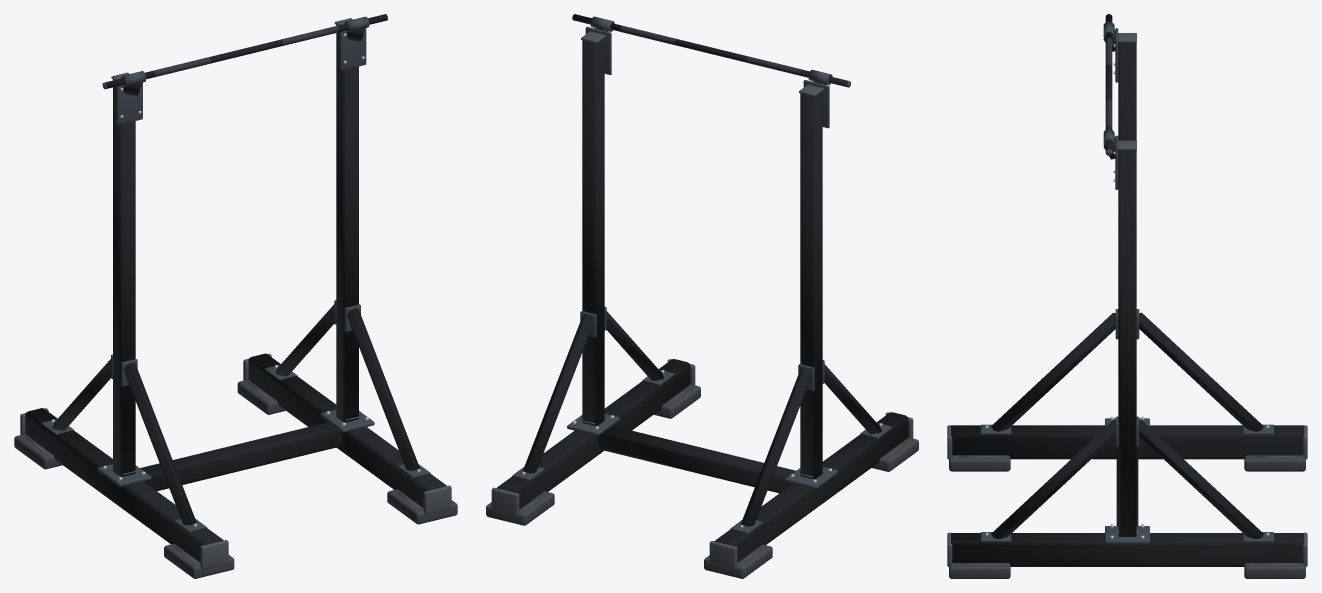
File: straight_pull_up_station.glb
The picture shows the model from 3 angles, left to right: view 1: azimuth 30°, elevation 25°; view 2: azimuth 150°, elevation 25°; view 3: azimuth 270°, elevation 25°; orthographic projection. The views are drawn at different scales.
Visible parts, largest first — view 1: RightUpright_Frame, LeftUpright_Frame, LeftBaseFoot_Frame, RightBaseFoot_Frame, MainFrame_Frame, RightReinforcement_Frame, LeftReinforcement_Frame, RightRubberFoot_Rubber, LeftRubberFoot_Rubber, MainFrame_Trim, RightUpright_Trim, LeftUpright_Trim (+6 smaller); view 2: RightUpright_Frame, LeftUpright_Frame, LeftBaseFoot_Frame, RightBaseFoot_Frame, MainFrame_Frame, LeftReinforcement_Frame, RightReinforcement_Frame, RightRubberFoot_Rubber, LeftRubberFoot_Rubber, MainFrame_Trim, PullUpBar_Frame, PullUpBar_Grip (+6 smaller); view 3: RightBaseFoot_Frame, LeftBaseFoot_Frame, RightUpright_Frame, RightReinforcement_Frame, LeftReinforcement_Frame, LeftRubberFoot_Rubber, RightRubberFoot_Rubber, LeftUpright_Frame, MainFrame_Trim, LeftReinforcement_Trim, RightReinforcement_Trim, PullUpBar_Frame (+1 smaller).
Boxes of the visible parts, left/top/right/bottom form: RightUpright_Frame: left=336, top=25, right=364, bottom=422; LeftUpright_Frame: left=113, top=79, right=141, bottom=476; LeftBaseFoot_Frame: left=25, top=408, right=223, bottom=562; RightBaseFoot_Frame: left=248, top=353, right=446, bottom=507; MainFrame_Frame: left=140, top=422, right=342, bottom=491; RightReinforcement_Frame: left=275, top=304, right=419, bottom=470; LeftReinforcement_Frame: left=52, top=359, right=196, bottom=525; RightRubberFoot_Rubber: left=237, top=380, right=457, bottom=524; LeftRubberFoot_Rubber: left=14, top=434, right=234, bottom=578; MainFrame_Trim: left=97, top=409, right=374, bottom=487; RightUpright_Trim: left=339, top=16, right=369, bottom=70; LeftUpright_Trim: left=116, top=71, right=146, bottom=125; RightUpright_Frame: left=582, top=27, right=608, bottom=425; LeftUpright_Frame: left=800, top=81, right=826, bottom=478; LeftBaseFoot_Frame: left=714, top=412, right=908, bottom=562; RightBaseFoot_Frame: left=497, top=359, right=690, bottom=509; MainFrame_Frame: left=598, top=426, right=795, bottom=493; LeftReinforcement_Frame: left=741, top=364, right=881, bottom=526; RightReinforcement_Frame: left=523, top=311, right=663, bottom=473; RightRubberFoot_Rubber: left=486, top=384, right=700, bottom=525; LeftRubberFoot_Rubber: left=704, top=438, right=918, bottom=578; MainFrame_Trim: left=567, top=413, right=837, bottom=489; PullUpBar_Frame: left=573, top=14, right=848, bottom=87; PullUpBar_Grip: left=620, top=25, right=801, bottom=75; RightBaseFoot_Frame: left=951, top=533, right=1303, bottom=566; LeftBaseFoot_Frame: left=951, top=425, right=1303, bottom=459; RightUpright_Frame: left=1103, top=137, right=1136, bottom=536; RightReinforcement_Frame: left=991, top=420, right=1263, bottom=538; LeftReinforcement_Frame: left=991, top=312, right=1263, bottom=431; LeftRubberFoot_Rubber: left=949, top=455, right=1305, bottom=471; RightRubberFoot_Rubber: left=949, top=563, right=1305, bottom=578; LeftUpright_Frame: left=1103, top=29, right=1136, bottom=140; MainFrame_Trim: left=1105, top=418, right=1149, bottom=544; LeftReinforcement_Trim: left=981, top=309, right=1273, bottom=434; RightReinforcement_Trim: left=981, top=416, right=1273, bottom=541; PullUpBar_Frame: left=1105, top=14, right=1112, bottom=151.
Size of the model in its own units: 1.57 by 2.35 by 1.76.
Materials: 7 (2 with a texture image).
